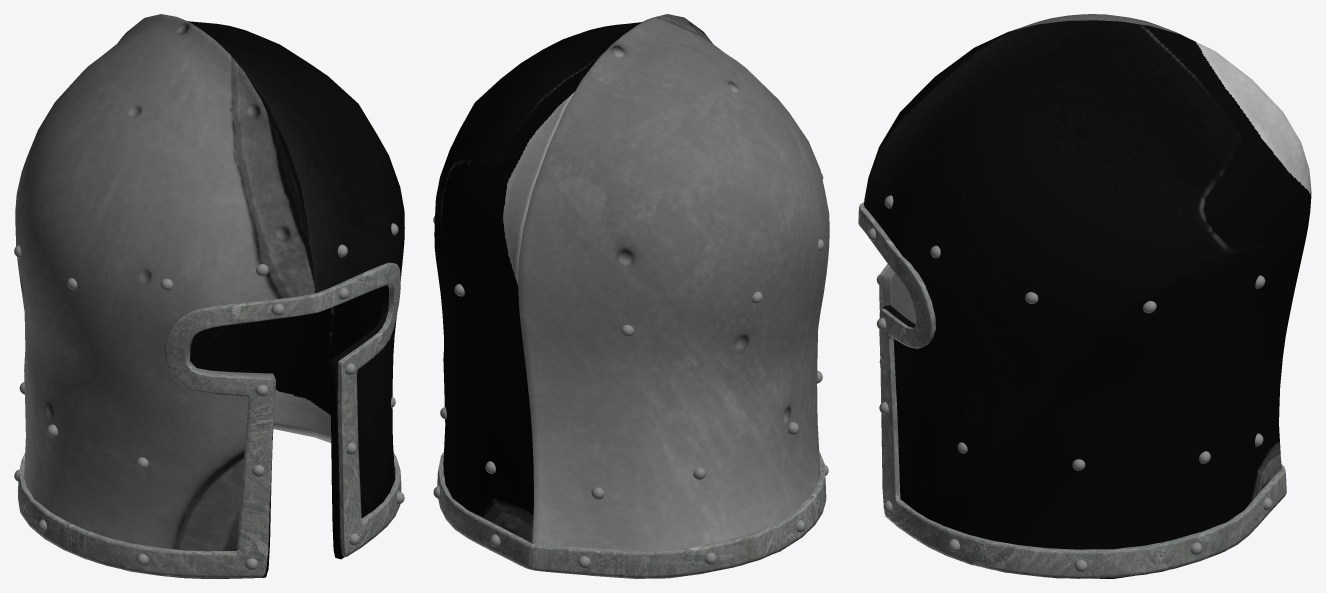
Rendered from Barbute1.obj.
3 views of the same model, side by side, from view 1: azimuth 30°, elevation 25°; view 2: azimuth 150°, elevation 25°; view 3: azimuth 270°, elevation 25° (orthographic). The views are drawn at different scales.
Parts seen in each view (by area): view 1: Barbute_Mesh.001; view 2: Barbute_Mesh.001; view 3: Barbute_Mesh.001.
Boxes of the visible parts, box(x1,y1,x2,y2) form: Barbute_Mesh.001: box(14, 14, 404, 578); Barbute_Mesh.001: box(433, 14, 829, 578); Barbute_Mesh.001: box(858, 14, 1311, 578).
Size of the model in its own units: 0.2042 by 0.2654 by 0.2282.
3 materials, 3 textured.
